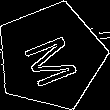M_E: (17, 25, 84, 87)
